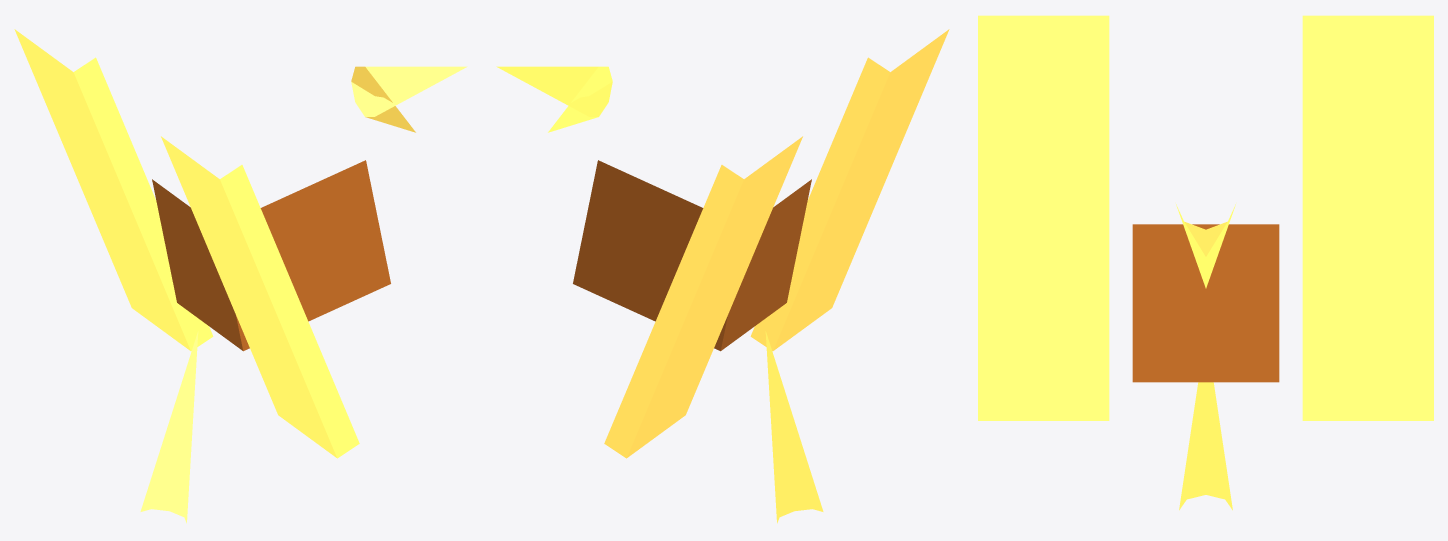
Rendered from phoenix.glb.
The picture shows the model from 3 angles, left to right: view 1: azimuth 30°, elevation 25°; view 2: azimuth 150°, elevation 25°; view 3: azimuth 270°, elevation 25°; orthographic projection. The views are drawn at different scales.
Parts seen in each view (by area): view 1: phoenix-wing-l, phoenix-ember-body, phoenix-wing-r, phoenix-tail-flame, phoenix-beak-flame; view 2: phoenix-wing-r, phoenix-ember-body, phoenix-wing-l, phoenix-tail-flame, phoenix-beak-flame; view 3: phoenix-wing-l, phoenix-wing-r, phoenix-ember-body, phoenix-tail-flame, phoenix-beak-flame.
Boxes of the visible parts, box(x1,y1,x2,y2) form: phoenix-wing-l: box(161, 136, 359, 458); phoenix-ember-body: box(152, 160, 390, 351); phoenix-wing-r: box(14, 29, 213, 350); phoenix-tail-flame: box(140, 331, 198, 523); phoenix-beak-flame: box(351, 66, 467, 132); phoenix-wing-r: box(604, 136, 802, 458); phoenix-ember-body: box(573, 160, 811, 351); phoenix-wing-l: box(750, 29, 949, 350); phoenix-tail-flame: box(765, 331, 823, 523); phoenix-beak-flame: box(496, 66, 612, 132); phoenix-wing-l: box(978, 15, 1109, 420); phoenix-wing-r: box(1302, 15, 1433, 420); phoenix-ember-body: box(1132, 224, 1279, 382); phoenix-tail-flame: box(1179, 382, 1232, 510); phoenix-beak-flame: box(1176, 204, 1235, 288).
Bounding box in the file's own units: 1.16 × 1.39 × 1.18.
